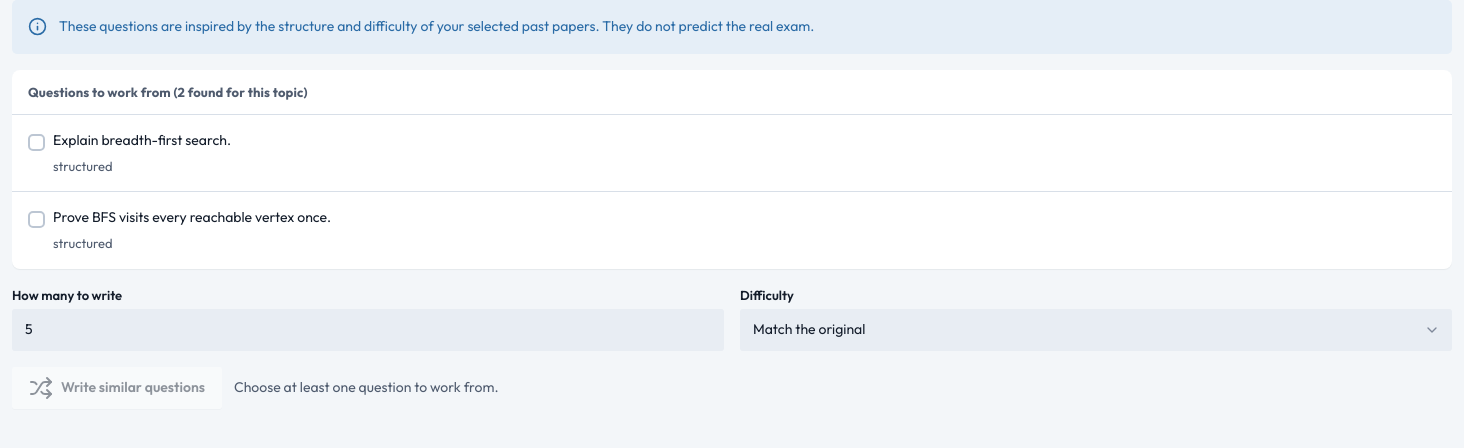
Test: SimilarQuestionBuilder › refuses a count the server would reject, before spending a request
The width and height of the screenshot is (1464, 448).
Click the checkbox labelled "Prove BFS visits every reachable vertex once. structured" at (36, 220), box x1=28 y1=211 x2=45 y2=228
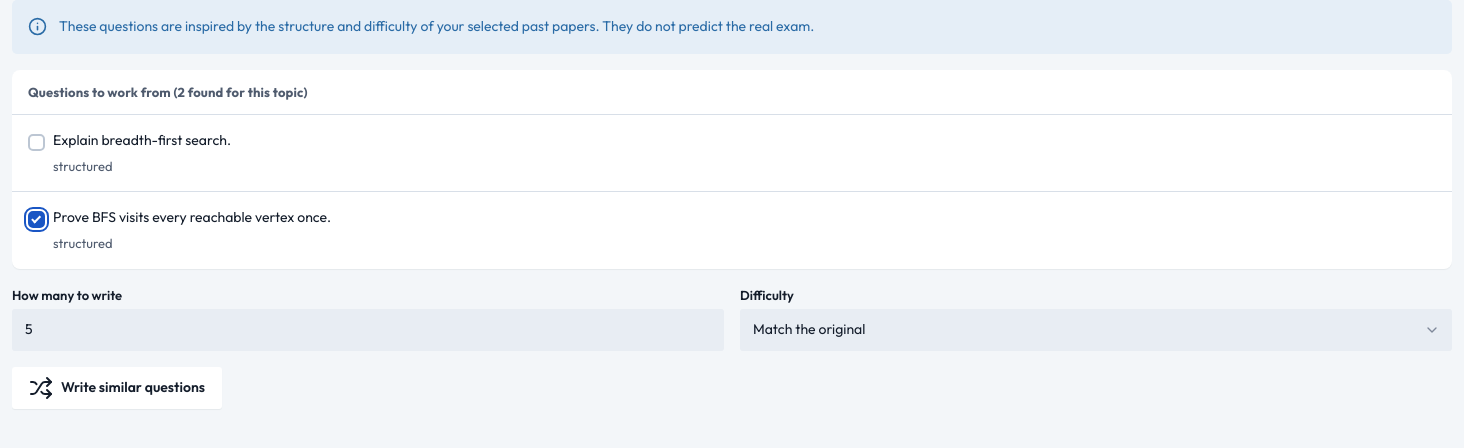
Clear the number field labelled "How many to write" at (368, 330), box x1=12 y1=309 x2=724 y2=351
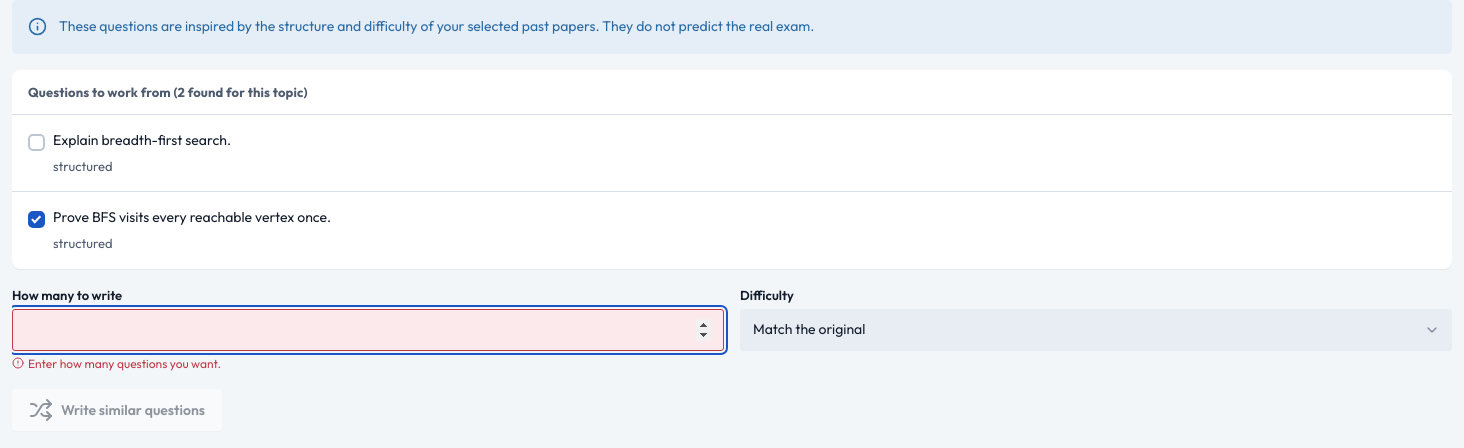
Check: the text "Enter how many questions you want." is shown, box x1=12 y1=356 x2=221 y2=371
Check: the button "Write similar questions" is disabled, box x1=12 y1=389 x2=222 y2=431
